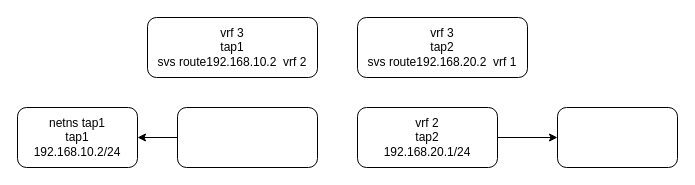
Image size: 695x185. Some labels were removed from this diagram. The shapes that lost their labels are listed below. From the top down, each one's box as (x1, y1, x2, y2) in pixels, then its label:
(176, 106, 318, 168): vrf 1 tap1 192.168.10.1/24
(556, 106, 678, 168): netns tap2 tap2 192.168.20.2/24
